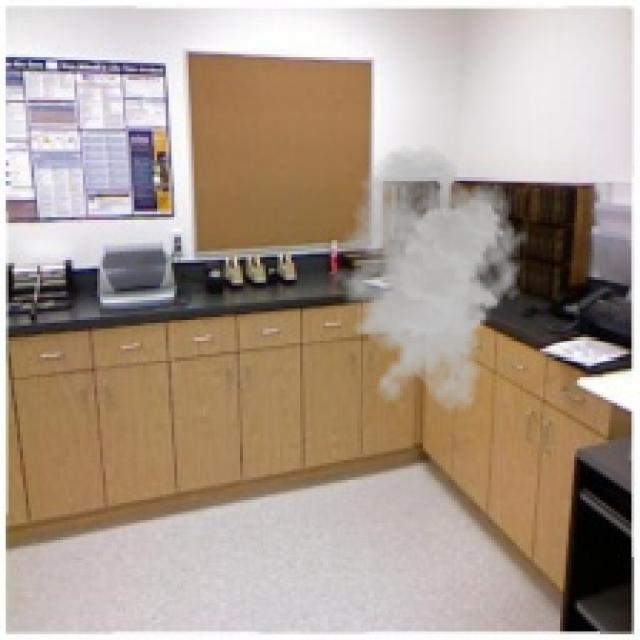smoke: (320, 146, 529, 414)
